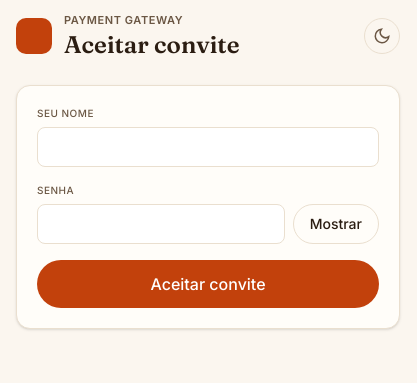
Scenario: InvitePage › explainsAnExpiredInvite
The image size is (417, 383).
In the field labelled "Seu nome": (208, 146) [37,126,379,166], type "Bruno"
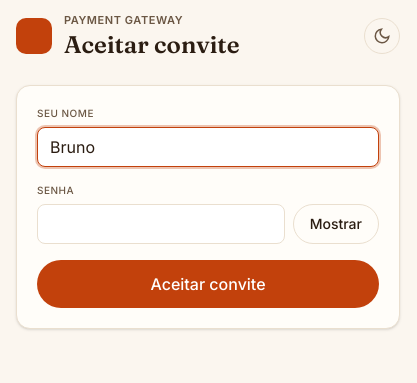
In the password field labelled "Senha": (161, 224) [37,204,285,244], type "senha-longa-123"
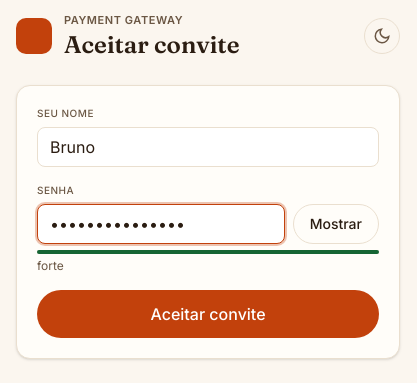
Click the button "Aceitar convite": (208, 314) [37,290,379,338]
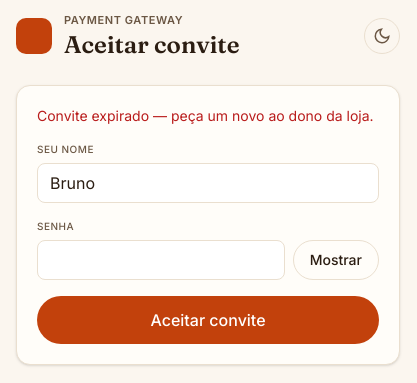
Result: the text "Convite expirado — peça um novo ao dono da loja." is shown at [37,106,379,126]
